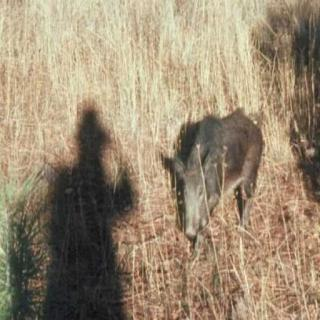Pig: (142, 77, 313, 246)
